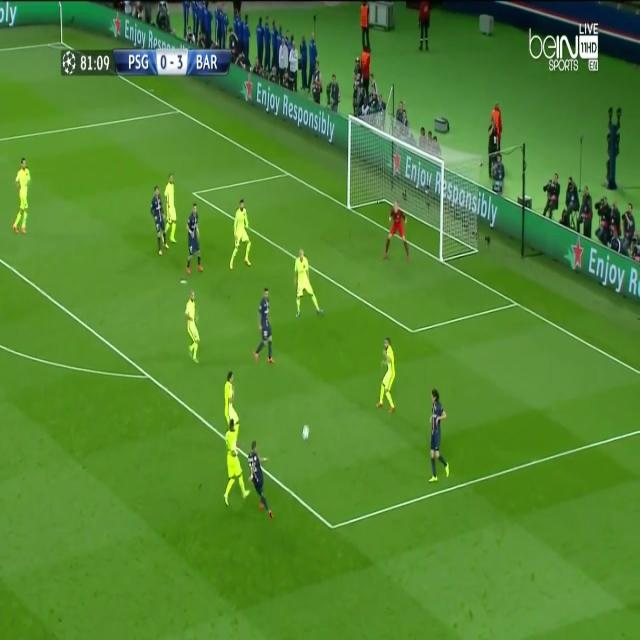Ball: (302, 423, 311, 442)
Goalkeeper: (383, 199, 413, 269)
Player: (223, 419, 250, 509), (293, 246, 324, 324), (429, 386, 451, 490), (248, 438, 275, 521), (252, 287, 276, 368), (228, 196, 252, 272), (375, 336, 396, 416), (148, 183, 168, 260), (184, 285, 203, 366), (12, 157, 31, 234), (184, 203, 204, 275), (221, 370, 242, 426), (165, 172, 179, 248)
